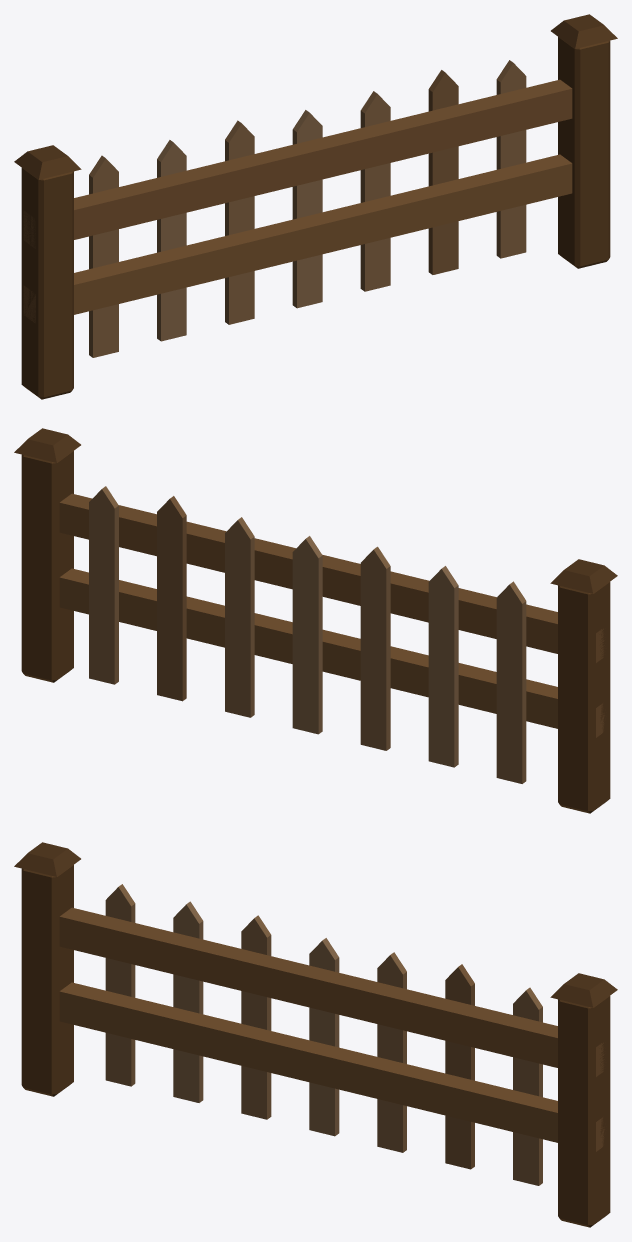
File: Fence.glb
3 renders of one model, top to bottom at view 1: azimuth 30°, elevation 25°; view 2: azimuth 150°, elevation 25°; view 3: azimuth 330°, elevation 25°, orthographic.
Visible parts, largest first — view 1: Body; view 2: Body; view 3: Body.
Boxes of the visible parts, box(x1,y1,x2,y2) form: Body: box(14, 14, 617, 399); Body: box(14, 428, 617, 813); Body: box(14, 842, 617, 1227).
Size of what is drawn, in the model's own units: 8.1 by 3.16 by 0.6.
